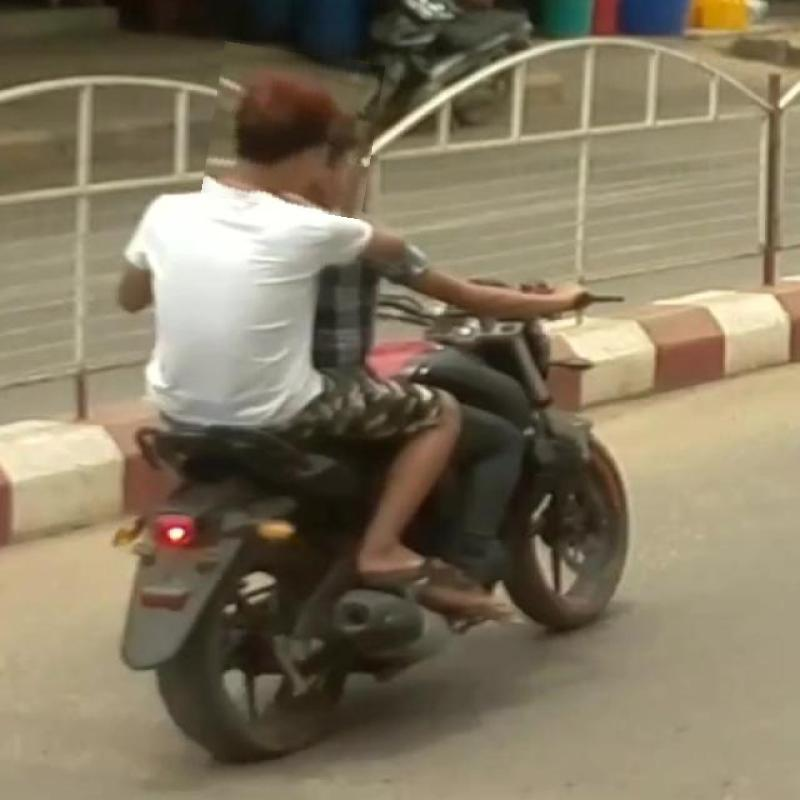nohelmet: (207, 47, 380, 214)
